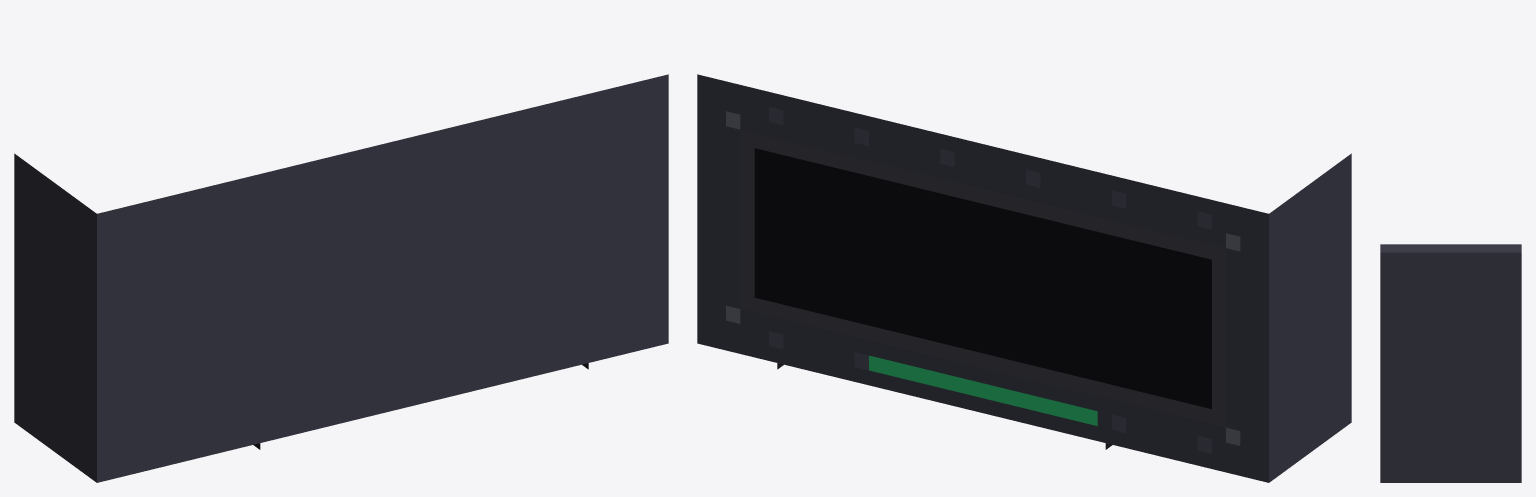
The model's file is DigitalTimerScreen.glb.
3 views of the same model, side by side, from view 1: azimuth 30°, elevation 25°; view 2: azimuth 150°, elevation 25°; view 3: azimuth 270°, elevation 25° (orthographic). The views are drawn at different scales.
Visible parts, largest first — view 1: Oggetto 1; view 2: Oggetto 1; view 3: Oggetto 1.
Boxes of the visible parts, box(x1,y1,x2,y2) form: Oggetto 1: box(14, 74, 668, 482); Oggetto 1: box(697, 74, 1351, 482); Oggetto 1: box(1380, 244, 1521, 482).
Bounding box in the file's own units: 2 × 0.95 × 0.5.
